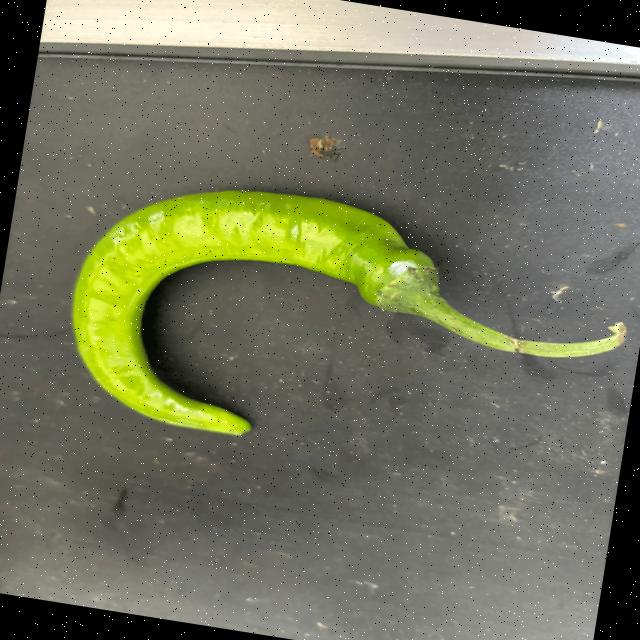chili: (71, 187, 444, 435)
